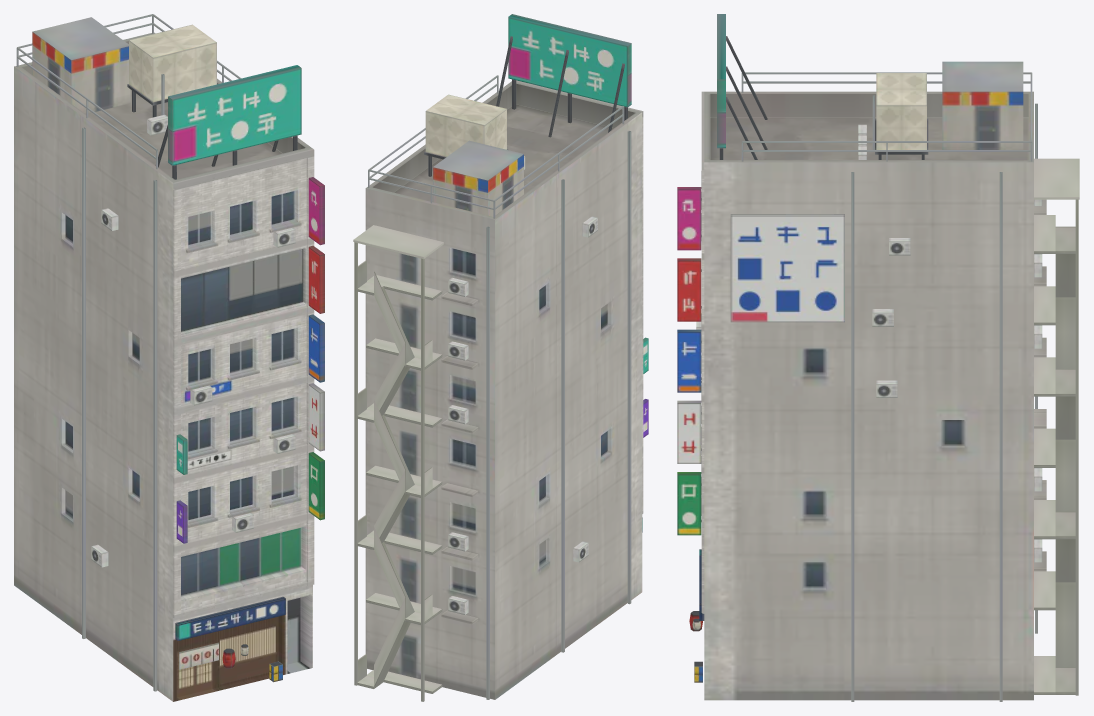
The model's file is tokyo_zakkyo_a.glb.
3 views of the same model, side by side, from view 1: azimuth 30°, elevation 25°; view 2: azimuth 150°, elevation 25°; view 3: azimuth 270°, elevation 25° (orthographic). The views are drawn at different scales.
Parts seen in each view (by area): view 1: tokyo_zakkyo_a; view 2: tokyo_zakkyo_a; view 3: tokyo_zakkyo_a.
Part boxes in pixels (x1,y1,x2,y2): tokyo_zakkyo_a: [14, 14, 324, 701]; tokyo_zakkyo_a: [353, 14, 648, 701]; tokyo_zakkyo_a: [677, 14, 1079, 701].
Bounding box in the file's own units: 7.24 × 26.9 × 15.87.
Materials: 1 (1 with a texture image).
